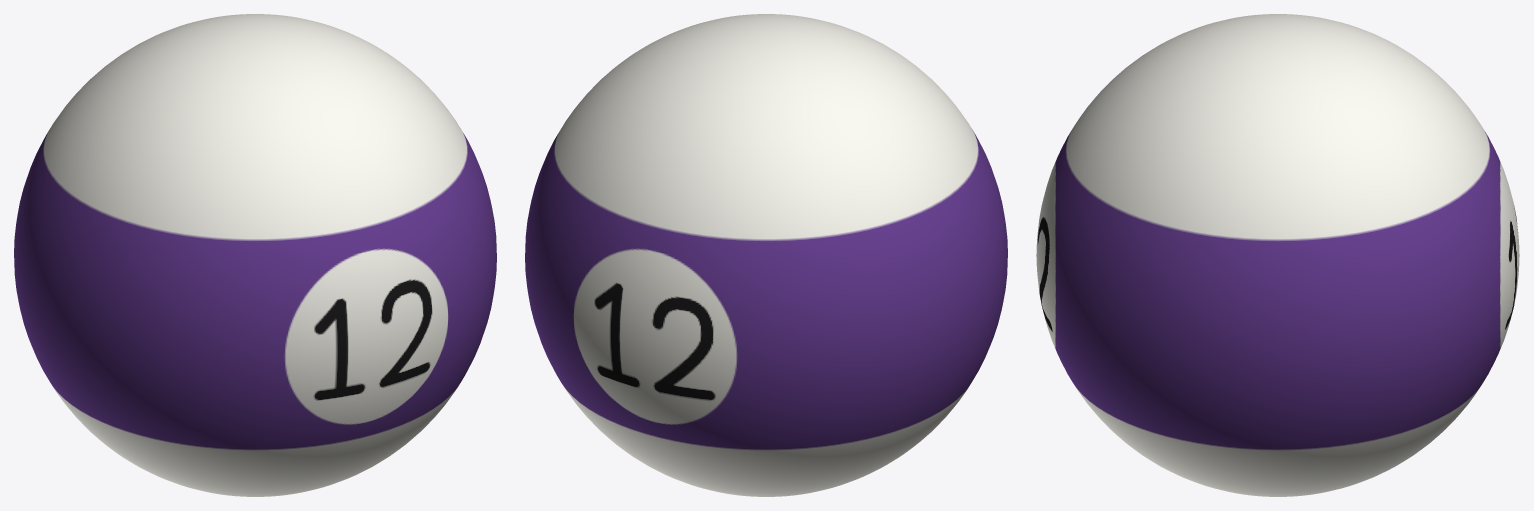
The model's file is ball-12.gltf.
3 renders of one model, left to right at view 1: azimuth 30°, elevation 25°; view 2: azimuth 150°, elevation 25°; view 3: azimuth 270°, elevation 25°, orthographic.
Parts seen in each view (by area): view 1: Ball_12; view 2: Ball_12; view 3: Ball_12.
Part boxes in pixels (x1,y1,x2,y2): Ball_12: [14, 14, 496, 496]; Ball_12: [525, 14, 1007, 496]; Ball_12: [1036, 14, 1519, 496].
Bounding box in the file's own units: 0.1 × 0.1 × 0.1.
Materials: 1 (1 with a texture image).
